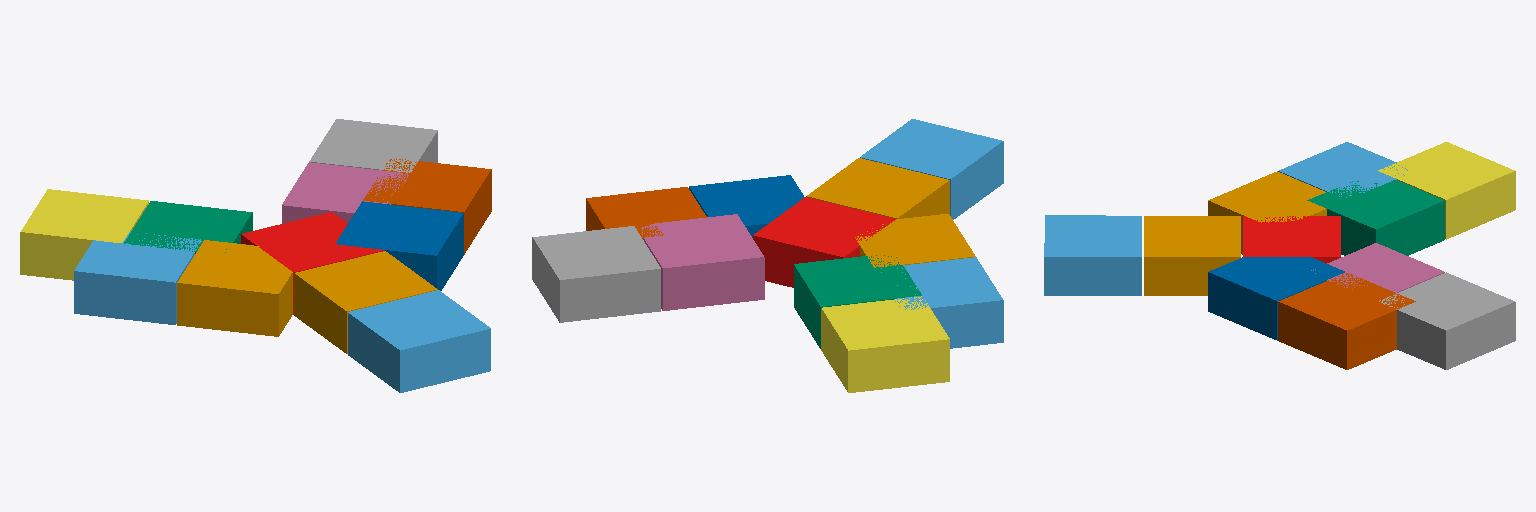
URDF robot description (rob):
<?xml version='1.0' encoding='UTF-8'?>
<robot name="rob">
  <link name="set2_arm1">
    <inertial>
      <origin xyz="0.0 0.34 0.0" rpy="0.0 0.0 0.0"/>
      <mass value="1.0"/>
      <inertia ixx="0.0" ixy="0.0" ixz="0.0" iyy="0.0" iyz="0.0" izz="0.0"/>
    </inertial>
    <visual>
      <geometry>
        <box size="0.67 0.67 0.3 "/>
      </geometry>
      <origin xyz="0.0 0.34 0.0" rpy="0.0 0.0 0.0"/>
    </visual>
    <collision>
      <geometry>
        <box size="0.67 0.67 0.3 "/>
      </geometry>
      <origin xyz="0.0 0.34 0.0" rpy="0.0 0.0 0.0"/>
    </collision>
  </link>
  <link name="set2_arm2">
    <inertial>
      <origin xyz="0.0 0.34 0.0" rpy="0.0 0.0 0.0"/>
      <mass value="1.0"/>
      <inertia ixx="0.0" ixy="0.0" ixz="0.0" iyy="0.0" iyz="0.0" izz="0.0"/>
    </inertial>
    <visual>
      <geometry>
        <box size="0.67 0.67 0.3 "/>
      </geometry>
      <origin xyz="0.0 0.34 0.0" rpy="0.0 0.0 0.0"/>
    </visual>
    <collision>
      <geometry>
        <box size="0.67 0.67 0.3 "/>
      </geometry>
      <origin xyz="0.0 0.34 0.0" rpy="0.0 0.0 0.0"/>
    </collision>
  </link>
  <link name="set5_arm1">
    <inertial>
      <origin xyz="0.0 0.34 0.0" rpy="0.0 0.0 0.0"/>
      <mass value="1.0"/>
      <inertia ixx="0.0" ixy="0.0" ixz="0.0" iyy="0.0" iyz="0.0" izz="0.0"/>
    </inertial>
    <visual>
      <geometry>
        <box size="0.67 0.67 0.3 "/>
      </geometry>
      <origin xyz="0.0 0.34 0.0" rpy="0.0 0.0 0.0"/>
    </visual>
    <collision>
      <geometry>
        <box size="0.67 0.67 0.3 "/>
      </geometry>
      <origin xyz="0.0 0.34 0.0" rpy="0.0 0.0 0.0"/>
    </collision>
  </link>
  <link name="set5_arm2">
    <inertial>
      <origin xyz="0.0 0.34 0.0" rpy="0.0 0.0 0.0"/>
      <mass value="1.0"/>
      <inertia ixx="0.0" ixy="0.0" ixz="0.0" iyy="0.0" iyz="0.0" izz="0.0"/>
    </inertial>
    <visual>
      <geometry>
        <box size="0.67 0.67 0.3 "/>
      </geometry>
      <origin xyz="0.0 0.34 0.0" rpy="0.0 0.0 0.0"/>
    </visual>
    <collision>
      <geometry>
        <box size="0.67 0.67 0.3 "/>
      </geometry>
      <origin xyz="0.0 0.34 0.0" rpy="0.0 0.0 0.0"/>
    </collision>
  </link>
  <link name="set6_arm1">
    <inertial>
      <origin xyz="0.0 0.34 0.0" rpy="0.0 0.0 0.0"/>
      <mass value="1.0"/>
      <inertia ixx="0.0" ixy="0.0" ixz="0.0" iyy="0.0" iyz="0.0" izz="0.0"/>
    </inertial>
    <visual>
      <geometry>
        <box size="0.67 0.67 0.3 "/>
      </geometry>
      <origin xyz="0.0 0.34 0.0" rpy="0.0 0.0 0.0"/>
    </visual>
    <collision>
      <geometry>
        <box size="0.67 0.67 0.3 "/>
      </geometry>
      <origin xyz="0.0 0.34 0.0" rpy="0.0 0.0 0.0"/>
    </collision>
  </link>
  <link name="set6_arm2">
    <inertial>
      <origin xyz="0.0 0.34 0.0" rpy="0.0 0.0 0.0"/>
      <mass value="1.0"/>
      <inertia ixx="0.0" ixy="0.0" ixz="0.0" iyy="0.0" iyz="0.0" izz="0.0"/>
    </inertial>
    <visual>
      <geometry>
        <box size="0.67 0.67 0.3 "/>
      </geometry>
      <origin xyz="0.0 0.34 0.0" rpy="0.0 0.0 0.0"/>
    </visual>
    <collision>
      <geometry>
        <box size="0.67 0.67 0.3 "/>
      </geometry>
      <origin xyz="0.0 0.34 0.0" rpy="0.0 0.0 0.0"/>
    </collision>
  </link>
  <link name="set7_arm1">
    <inertial>
      <origin xyz="0.0 0.34 0.0" rpy="0.0 0.0 0.0"/>
      <mass value="1.0"/>
      <inertia ixx="0.0" ixy="0.0" ixz="0.0" iyy="0.0" iyz="0.0" izz="0.0"/>
    </inertial>
    <visual>
      <geometry>
        <box size="0.67 0.67 0.3 "/>
      </geometry>
      <origin xyz="0.0 0.34 0.0" rpy="0.0 0.0 0.0"/>
    </visual>
    <collision>
      <geometry>
        <box size="0.67 0.67 0.3 "/>
      </geometry>
      <origin xyz="0.0 0.34 0.0" rpy="0.0 0.0 0.0"/>
    </collision>
  </link>
  <link name="set7_arm2">
    <inertial>
      <origin xyz="0.0 0.34 0.0" rpy="0.0 0.0 0.0"/>
      <mass value="1.0"/>
      <inertia ixx="0.0" ixy="0.0" ixz="0.0" iyy="0.0" iyz="0.0" izz="0.0"/>
    </inertial>
    <visual>
      <geometry>
        <box size="0.67 0.67 0.3 "/>
      </geometry>
      <origin xyz="0.0 0.34 0.0" rpy="0.0 0.0 0.0"/>
    </visual>
    <collision>
      <geometry>
        <box size="0.67 0.67 0.3 "/>
      </geometry>
      <origin xyz="0.0 0.34 0.0" rpy="0.0 0.0 0.0"/>
    </collision>
  </link>
  <link name="set8_arm1">
    <inertial>
      <origin xyz="0.0 0.34 0.0" rpy="0.0 0.0 0.0"/>
      <mass value="1.0"/>
      <inertia ixx="0.0" ixy="0.0" ixz="0.0" iyy="0.0" iyz="0.0" izz="0.0"/>
    </inertial>
    <visual>
      <geometry>
        <box size="0.67 0.67 0.3 "/>
      </geometry>
      <origin xyz="0.0 0.34 0.0" rpy="0.0 0.0 0.0"/>
    </visual>
    <collision>
      <geometry>
        <box size="0.67 0.67 0.3 "/>
      </geometry>
      <origin xyz="0.0 0.34 0.0" rpy="0.0 0.0 0.0"/>
    </collision>
  </link>
  <link name="set8_arm2">
    <inertial>
      <origin xyz="0.0 0.34 0.0" rpy="0.0 0.0 0.0"/>
      <mass value="1.0"/>
      <inertia ixx="0.0" ixy="0.0" ixz="0.0" iyy="0.0" iyz="0.0" izz="0.0"/>
    </inertial>
    <visual>
      <geometry>
        <box size="0.67 0.67 0.3 "/>
      </geometry>
      <origin xyz="0.0 0.34 0.0" rpy="0.0 0.0 0.0"/>
    </visual>
    <collision>
      <geometry>
        <box size="0.67 0.67 0.3 "/>
      </geometry>
      <origin xyz="0.0 0.34 0.0" rpy="0.0 0.0 0.0"/>
    </collision>
  </link>
  <link name="base_link">
    <inertial>
      <origin xyz="0.0 0.0 0.0" rpy="0.0 -0.0 0.0"/>
      <mass value="1.0"/>
      <inertia ixx="1.0" ixy="0.0" ixz="0.0" iyy="1.0" iyz="0.0" izz="1.0"/>
    </inertial>
    <visual>
      <geometry>
        <box size="0.67 0.67 0.3 "/>
      </geometry>
      <material name="red"/>
      <origin xyz="0.0 0.0 0.0" rpy="0.0 -0.0 0.0"/>
    </visual>
    <collision>
      <geometry>
        <box size="0.67 0.67 0.3 "/>
      </geometry>
      <origin xyz="0.0 0.0 0.0" rpy="0.0 0.0 0.0"/>
    </collision>
  </link>
  <joint name="set2_jointBase" type="fixed">
    <limit effort="1.57" velocity="1.57" lower="-1.57" upper="1.57"/>
    <parent link="base_link"/>
    <child link="set2_arm1"/>
    <axis xyz="1. 0. 0."/>
    <origin xyz="0.0 -0.34 0.0" rpy="0.0 0.0 3.141"/>
  </joint>
  <joint name="set2_joint1" type="revolute">
    <limit effort="1.57" velocity="1.57" lower="-1.57" upper="1.57"/>
    <parent link="set2_arm1"/>
    <child link="set2_arm2"/>
    <axis xyz="1. 0. 0."/>
    <origin xyz="0.0 0.68 0.0" rpy="0.0 0.0 0.0"/>
  </joint>
  <joint name="set5_jointBase" type="fixed">
    <limit effort="1.57" velocity="1.57" lower="-1.57" upper="1.57"/>
    <parent link="base_link"/>
    <child link="set5_arm1"/>
    <axis xyz="1. 0. 0."/>
    <origin xyz="-0.34 0.34 0.0" rpy="0.0 0.0 0.785"/>
  </joint>
  <joint name="set5_joint1" type="revolute">
    <limit effort="1.57" velocity="1.57" lower="-1.57" upper="1.57"/>
    <parent link="set5_arm1"/>
    <child link="set5_arm2"/>
    <axis xyz="1. 0. 0."/>
    <origin xyz="0.0 0.68 0.0" rpy="0.0 0.0 0.0"/>
  </joint>
  <joint name="set6_jointBase" type="fixed">
    <limit effort="1.57" velocity="1.57" lower="-1.57" upper="1.57"/>
    <parent link="base_link"/>
    <child link="set6_arm1"/>
    <axis xyz="1. 0. 0."/>
    <origin xyz="0.34 -0.34 0.0" rpy="0.0 0.0 -0.785"/>
  </joint>
  <joint name="set6_joint1" type="revolute">
    <limit effort="1.57" velocity="1.57" lower="-1.57" upper="1.57"/>
    <parent link="set6_arm1"/>
    <child link="set6_arm2"/>
    <axis xyz="1. 0. 0."/>
    <origin xyz="0.0 0.68 0.0" rpy="0.0 0.0 0.0"/>
  </joint>
  <joint name="set7_jointBase" type="fixed">
    <limit effort="1.57" velocity="1.57" lower="-1.57" upper="1.57"/>
    <parent link="base_link"/>
    <child link="set7_arm1"/>
    <axis xyz="1. 0. 0."/>
    <origin xyz="0.34 0.34 0.0" rpy="0.0 0.0 -0.785"/>
  </joint>
  <joint name="set7_joint1" type="revolute">
    <limit effort="1.57" velocity="1.57" lower="-1.57" upper="1.57"/>
    <parent link="set7_arm1"/>
    <child link="set7_arm2"/>
    <axis xyz="1. 0. 0."/>
    <origin xyz="0.0 0.68 0.0" rpy="0.0 0.0 0.0"/>
  </joint>
  <joint name="set8_jointBase" type="fixed">
    <limit effort="1.57" velocity="1.57" lower="-1.57" upper="1.57"/>
    <parent link="base_link"/>
    <child link="set8_arm1"/>
    <axis xyz="1. 0. 0."/>
    <origin xyz="-0.34 -0.34 0.0" rpy="0.0 0.0 0.785"/>
  </joint>
  <joint name="set8_joint1" type="revolute">
    <limit effort="1.57" velocity="1.57" lower="-1.57" upper="1.57"/>
    <parent link="set8_arm1"/>
    <child link="set8_arm2"/>
    <axis xyz="1. 0. 0."/>
    <origin xyz="0.0 0.68 0.0" rpy="0.0 0.0 0.0"/>
  </joint>
  <material name="red">
    <color rgba="0.969 0.129 0.122 1.   "/>
  </material>
</robot>

--- What the picture shows (computed from the rendered views, not written in the file) ---
The picture shows the robot from 3 angles, left to right: view 1: azimuth 30°, elevation 25°; view 2: azimuth 150°, elevation 25°; view 3: azimuth 270°, elevation 25°; orthographic projection.
Model rob with 11 links and 10 joints (5 revolute, 5 fixed), rooted at base_link, posed all joints at 0.
Links seen in each view (by area): view 1: set2_arm2, set8_arm1, set8_arm2, set5_arm2, set2_arm1, set6_arm1, set6_arm2, set7_arm2, base_link, set7_arm1, set5_arm1; view 2: set7_arm2, set5_arm2, set7_arm1, set2_arm2, base_link, set8_arm2, set2_arm1, set5_arm1, set8_arm1, set6_arm1, set6_arm2; view 3: set6_arm2, set7_arm2, set2_arm2, set5_arm2, set5_arm1, set2_arm1, set6_arm1, set8_arm1, base_link, set8_arm2, set7_arm1.
Link boxes in pixels (x1,y1,x2,y2): set2_arm2: (348,290,490,392); set8_arm1: (177,240,292,336); set8_arm2: (74,231,201,324); set5_arm2: (20,189,148,280); set2_arm1: (294,251,437,353); set6_arm1: (336,201,463,290); set6_arm2: (363,159,491,254); set7_arm2: (309,119,437,172); base_link: (241,212,384,314); set7_arm1: (282,162,408,223); set5_arm1: (124,201,252,253); set7_arm2: (532,226,660,322); set5_arm2: (821,296,949,392); set7_arm1: (640,214,764,310); set2_arm2: (860,119,1003,219); base_link: (753,197,895,287); set8_arm2: (881,257,1003,348); set2_arm1: (806,158,949,218); set5_arm1: (794,255,921,348); set8_arm1: (855,214,975,267); set6_arm1: (689,175,803,237); set6_arm2: (586,187,706,238); set6_arm2: (1278,273,1415,369); set7_arm2: (1379,272,1515,369); set2_arm2: (1044,215,1141,295); set5_arm2: (1378,142,1515,239); set5_arm1: (1307,180,1444,255); set2_arm1: (1144,216,1240,295); set6_arm1: (1208,257,1344,340); set8_arm1: (1208,171,1326,254); base_link: (1243,216,1340,263); set8_arm2: (1278,142,1407,197); set7_arm1: (1311,243,1444,292).
Bounding box of the posed robot: 3.07 × 3.23 × 0.3 m (x, y, z).
Geometry: primitives only (box / cylinder / sphere), no mesh files.